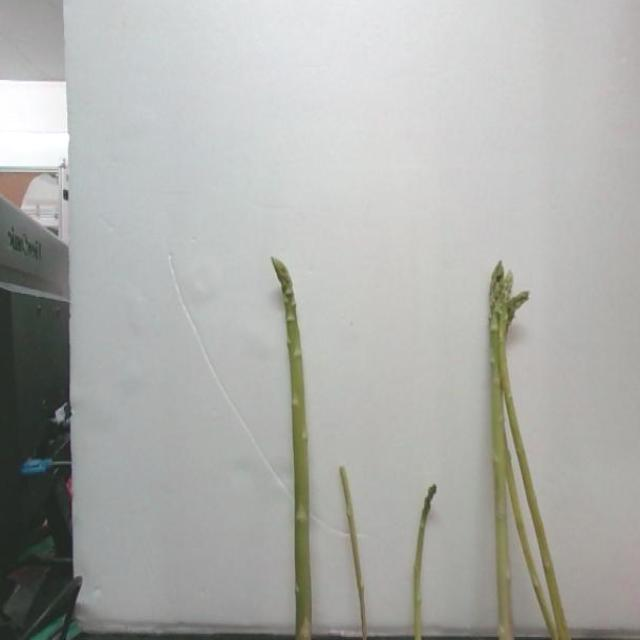aspargus: (272, 258, 314, 640), (489, 264, 530, 640)
